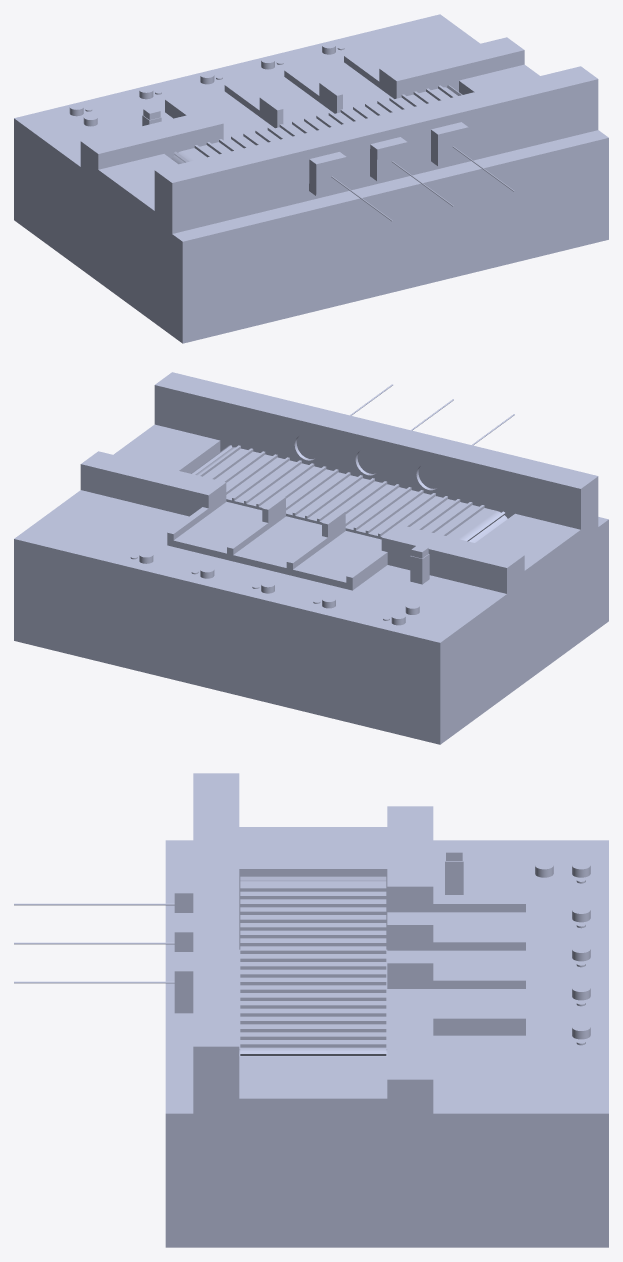
Rendered from Conveyer belt system.fbx.
The picture shows the model from 3 angles, top to bottom: view 1: azimuth 30°, elevation 25°; view 2: azimuth 150°, elevation 25°; view 3: azimuth 270°, elevation 25°; orthographic projection. The views are drawn at different scales.
Visible parts, largest first — view 1: base-1 - Part, prt4 holder-1 - Part, pt3 conveyer-1 - Part, part5 sensor-1 - Part, part5 sensor-3 - Part, part5 sensor-2 - Part; view 2: base-1 - Part, pt3 conveyer-1 - Part, prt4 holder-1 - Part, part5 sensor-2 - Part, part5 sensor-3 - Part, part5 sensor-1 - Part; view 3: base-1 - Part, pt3 conveyer-1 - Part, prt4 holder-1 - Part, part5 sensor-1 - Part, part5 sensor-3 - Part, part5 sensor-2 - Part.
Boxes of the visible parts, <box> form: base-1 - Part: <box>14,14,608,343</box>; prt4 holder-1 - Part: <box>165,54,379,125</box>; pt3 conveyer-1 - Part: <box>171,85,462,164</box>; part5 sensor-1 - Part: <box>431,122,514,192</box>; part5 sensor-3 - Part: <box>309,152,393,221</box>; part5 sensor-2 - Part: <box>370,137,453,206</box>; base-1 - Part: <box>14,372,608,744</box>; pt3 conveyer-1 - Part: <box>191,445,507,542</box>; prt4 holder-1 - Part: <box>167,507,387,590</box>; part5 sensor-2 - Part: <box>357,399,453,473</box>; part5 sensor-3 - Part: <box>418,414,514,488</box>; part5 sensor-1 - Part: <box>297,384,392,458</box>; base-1 - Part: <box>165,773,608,1247</box>; pt3 conveyer-1 - Part: <box>240,876,386,1056</box>; prt4 holder-1 - Part: <box>433,900,525,1035</box>; part5 sensor-1 - Part: <box>14,952,193,1013</box>; part5 sensor-3 - Part: <box>14,873,193,912</box>; part5 sensor-2 - Part: <box>14,913,193,951</box>.
Bounding box in the file's own units: 35 × 12 × 32.2.
